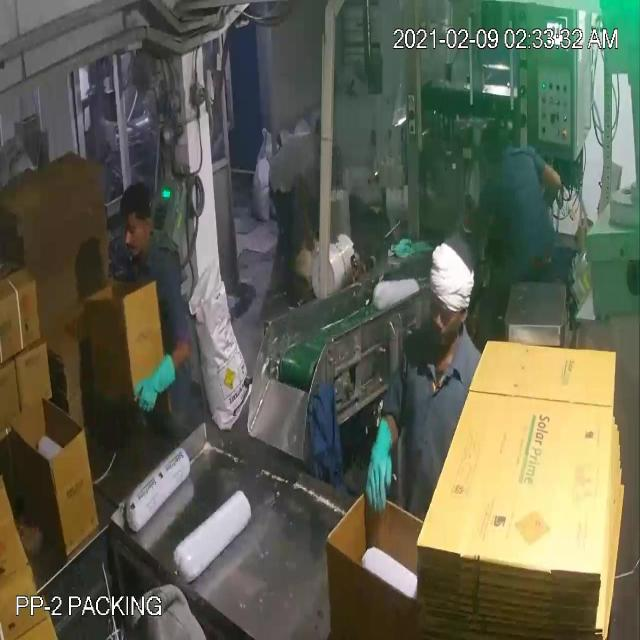gloves: (121, 337, 177, 419), (364, 409, 400, 515)
no-gloves: (289, 156, 317, 265)
